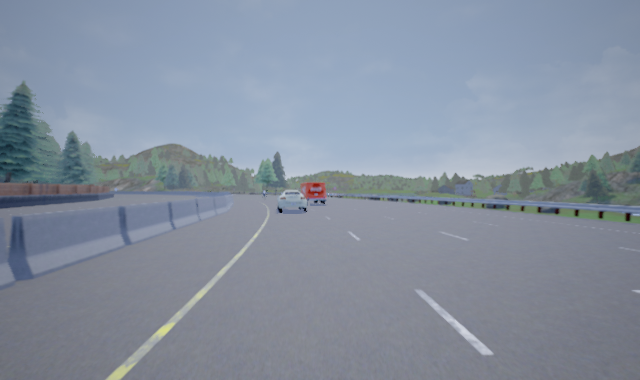vehicle: (276, 189, 308, 213), (298, 182, 327, 204)
